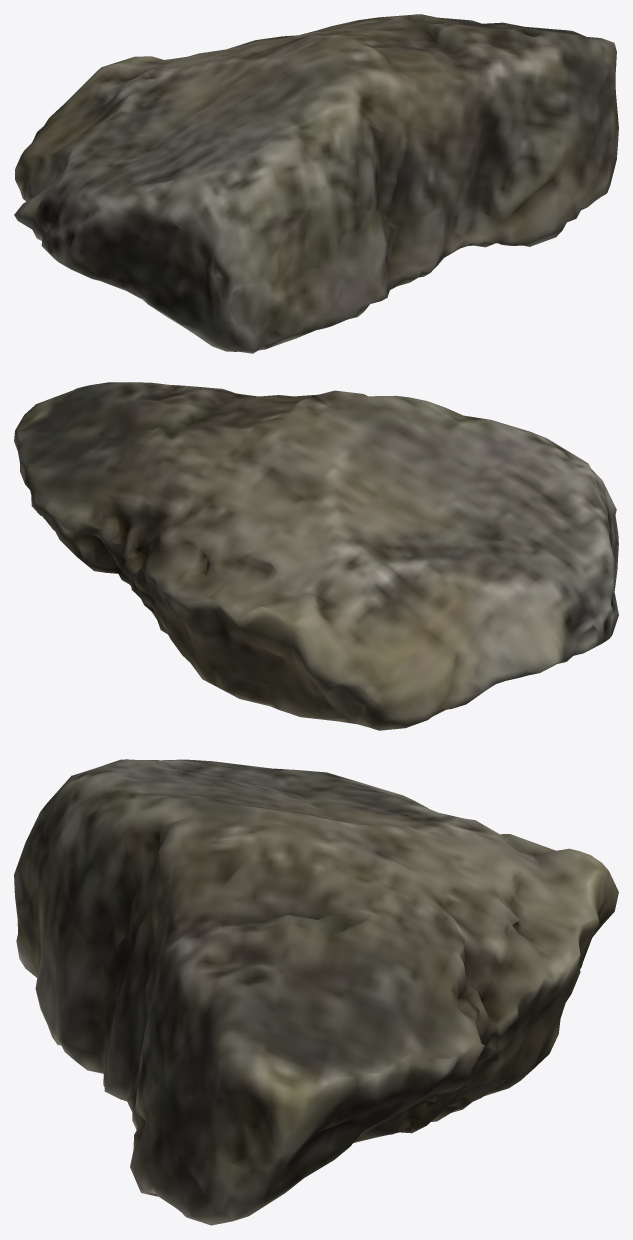
The picture shows the model from 3 angles, top to bottom: view 1: azimuth 30°, elevation 25°; view 2: azimuth 150°, elevation 25°; view 3: azimuth 270°, elevation 25°; orthographic projection. The views are drawn at different scales.
Parts seen in each view (by area): view 1: rock_moss_set_02__d_lod1; view 2: rock_moss_set_02__d_lod1; view 3: rock_moss_set_02__d_lod1.
Boxes of the visible parts, x1,y1,x2,y2 form: rock_moss_set_02__d_lod1: [14, 14, 618, 353]; rock_moss_set_02__d_lod1: [14, 382, 618, 730]; rock_moss_set_02__d_lod1: [14, 759, 618, 1225].
Bounding box in the file's own units: 2.2 × 0.7645 × 1.55.
1 material, 1 textured.
